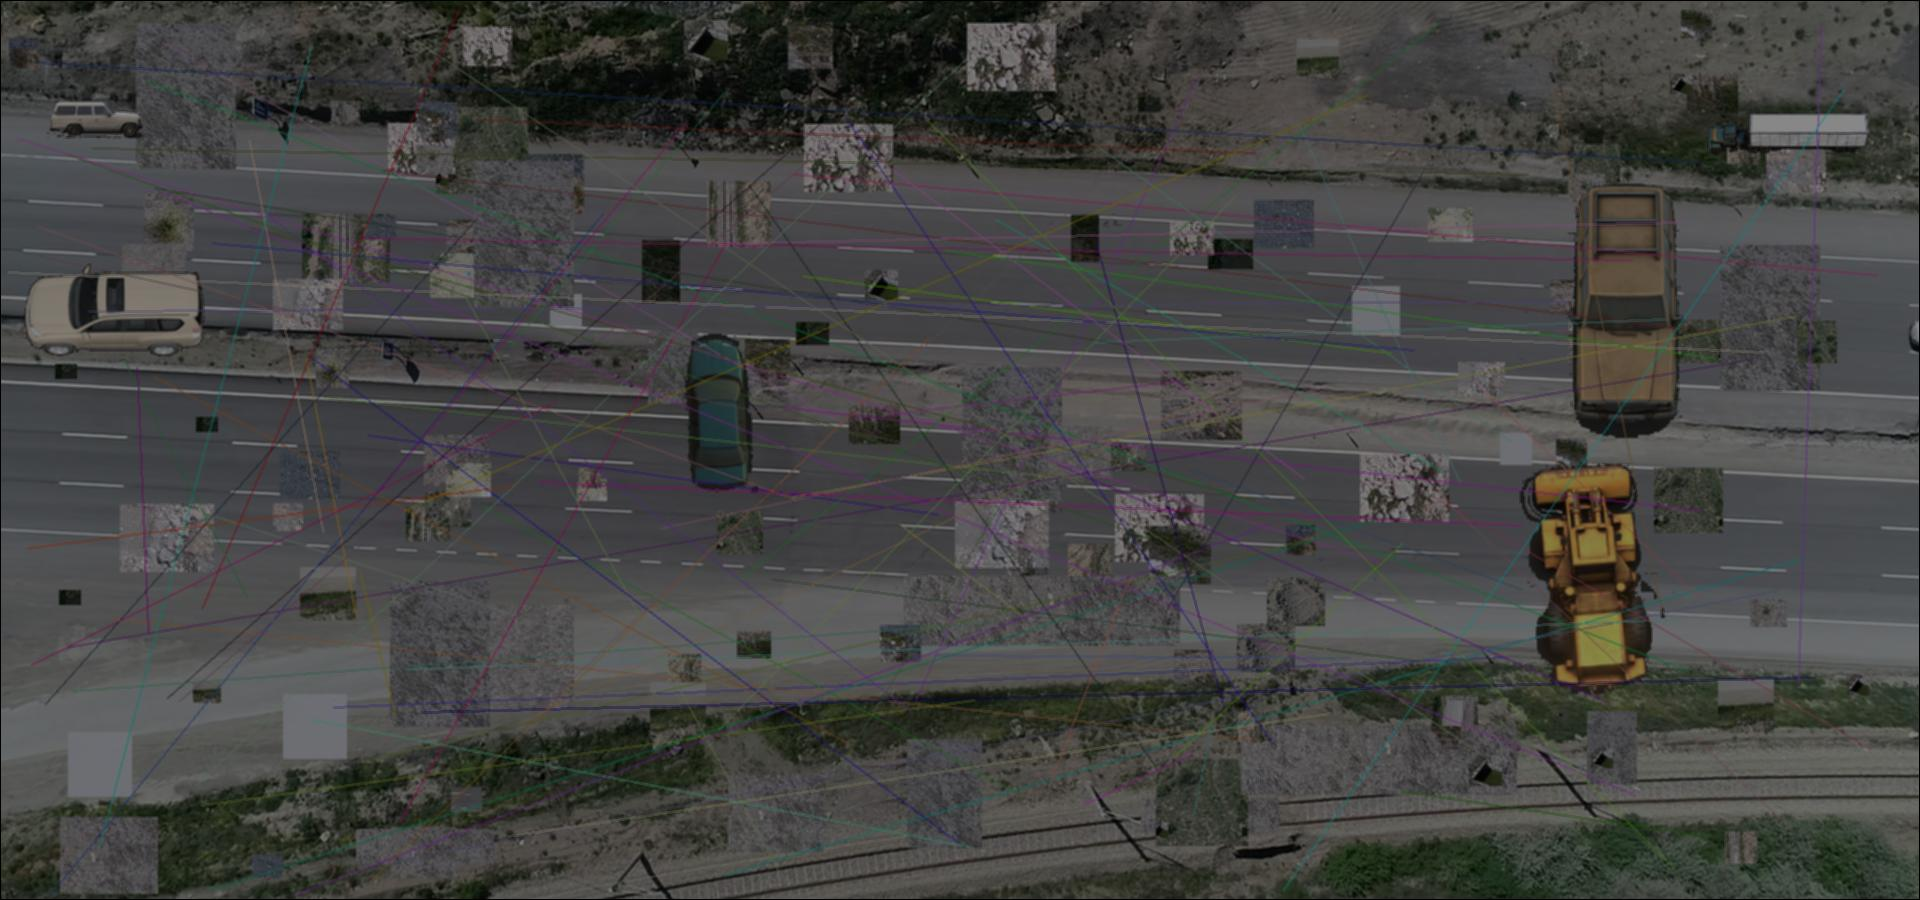arac: (1513, 458, 1684, 704), (1565, 178, 1691, 438), (13, 264, 214, 356), (682, 333, 758, 493), (1708, 111, 1869, 156), (47, 100, 144, 138)
